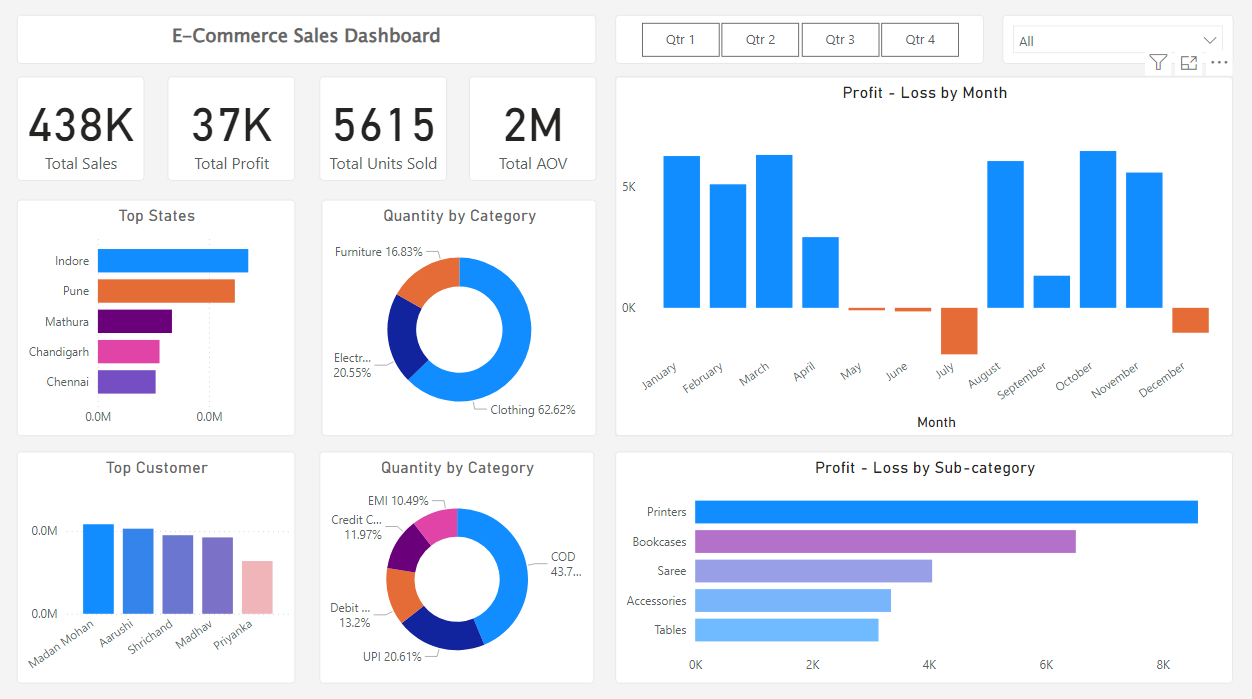

The page's visual inventory and layout, read from the dashboard file:
{"tool":"powerbi","page":{"name":"Page 1","canvas":[1280,720],"ordinal":0},"visuals":[{"type":"textbox","box":[20,20,590,50],"z":0},{"type":"slicer","fields":{"Values":["Orders.Order Date.Variation.Date Hierarchy.Quarter"]},"box":[629.5,20.2,375.2,50.4],"z":1000},{"type":"slicer","fields":{"Values":["Orders.City"]},"box":[1023.8,20.2,235,50],"z":2000},{"type":"clusteredColumnChart","title":"Profit - Loss by Month","fields":{"Y":["Details.Profit","Details.Profit"],"Category":["Orders.Order Date.Variation.Date Hierarchy.Month"]},"box":[629.5,82.9,629.5,366.3],"z":3000},{"type":"clusteredBarChart","title":"Profit - Loss by Sub-category","fields":{"Y":["Details.Profit"],"Category":["Details.Sub-Category"]},"box":[629.5,464.9,629.5,236.3],"z":4000},{"type":"card","fields":{"Values":["Details.Amount"]},"box":[20.2,82.9,129.9,106.4],"z":5000},{"type":"card","fields":{"Values":["Details.Profit"]},"box":[173.6,82.9,129.9,106.4],"z":6000},{"type":"card","fields":{"Values":["Details.Quantity"]},"box":[328.2,82.9,129.9,106.4],"z":7000},{"type":"card","fields":{"Values":["Details.AOV"]},"box":[480.5,82.9,129.9,106.4],"z":8000},{"type":"donutChart","title":"Quantity by Category","fields":{"Category":["Details.Category"],"Y":["Details.Quantity"]},"box":[330.4,208.3,280,240.8],"z":9000},{"type":"donutChart","title":"Quantity by Category","fields":{"Y":["Details.Quantity"],"Category":["Details.PaymentMode"]},"box":[328.2,464.9,280,236.3],"z":10000},{"type":"clusteredBarChart","title":"Top States","fields":{"Y":["Details.Profit"],"Category":["Orders.City"]},"box":[20.2,208.3,283.4,240.8],"z":11000},{"type":"clusteredColumnChart","title":"Top Customer","fields":{"Y":["Details.Profit"],"Category":["Orders.CustomerName"]},"box":[20.2,464.9,283.4,236.3],"z":12000}]}

Visuals, with their boxes in screenshot pixels (x1, y1, x2, y2), scaled from the page's 1280x720 canvas onto the 1252x699 screenshot:
textbox: (x1=20, y1=19, x2=597, y2=68)
slicer - Orders.Order Date.Variation.Date Hierarchy.Quarter: (x1=616, y1=20, x2=983, y2=69)
slicer - Orders.City: (x1=1001, y1=20, x2=1231, y2=68)
"Profit - Loss by Month" clusteredColumnChart: (x1=616, y1=80, x2=1231, y2=436)
"Profit - Loss by Sub-category" clusteredBarChart: (x1=616, y1=451, x2=1231, y2=681)
card - Details.Amount: (x1=20, y1=80, x2=147, y2=184)
card - Details.Profit: (x1=170, y1=80, x2=297, y2=184)
card - Details.Quantity: (x1=321, y1=80, x2=448, y2=184)
card - Details.AOV: (x1=470, y1=80, x2=597, y2=184)
"Quantity by Category" donutChart: (x1=323, y1=202, x2=597, y2=436)
"Quantity by Category" donutChart: (x1=321, y1=451, x2=595, y2=681)
"Top States" clusteredBarChart: (x1=20, y1=202, x2=297, y2=436)
"Top Customer" clusteredColumnChart: (x1=20, y1=451, x2=297, y2=681)
